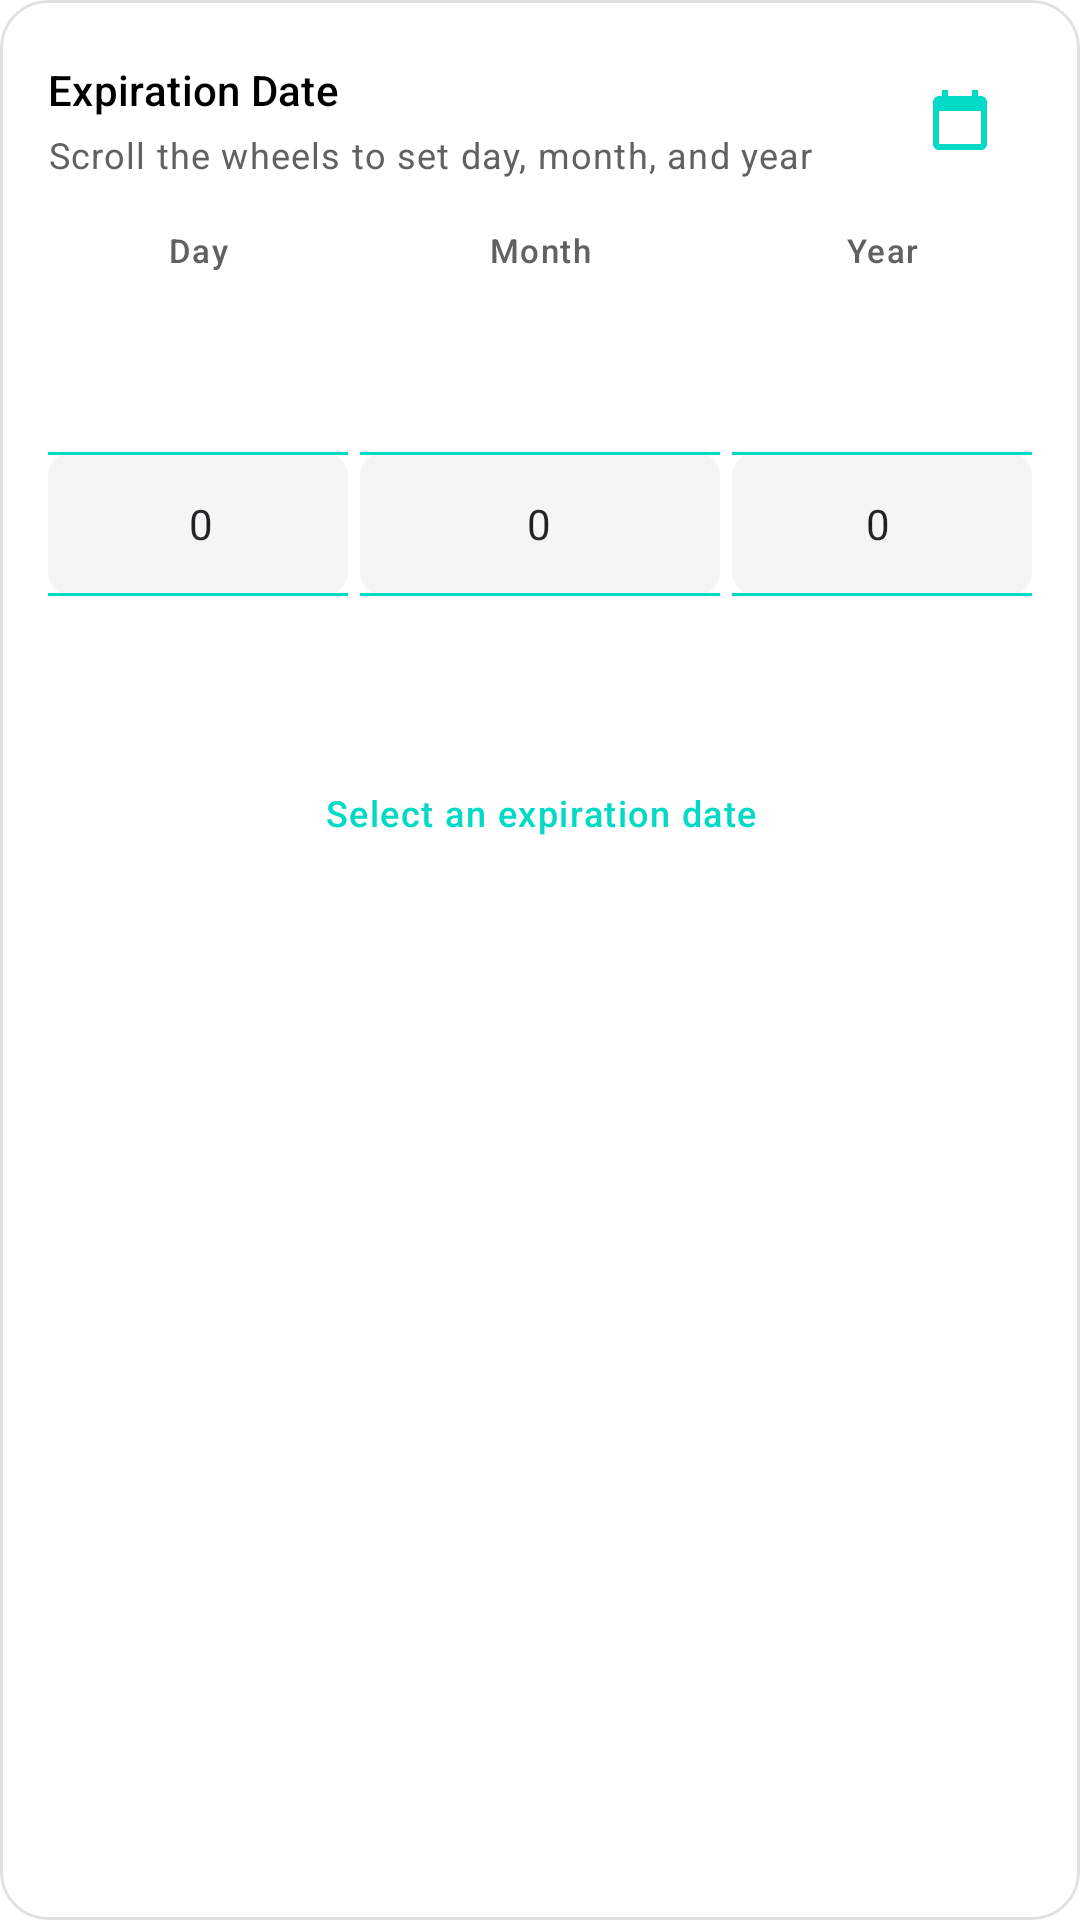

Screen size 1080 × 1920. Icon name, then its center in pixels as (x=x, y=y):
Toggle date input mode: (x=960, y=120)
